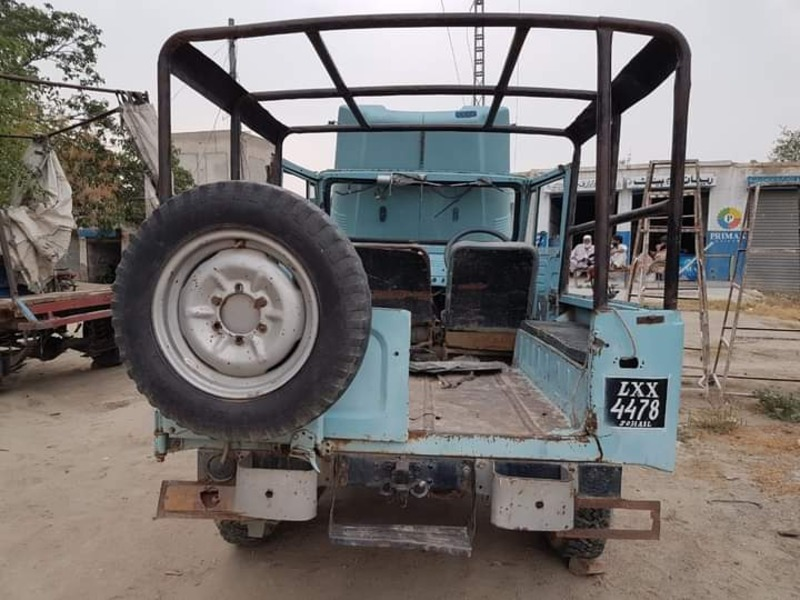License Plate: (600, 372, 675, 438)
